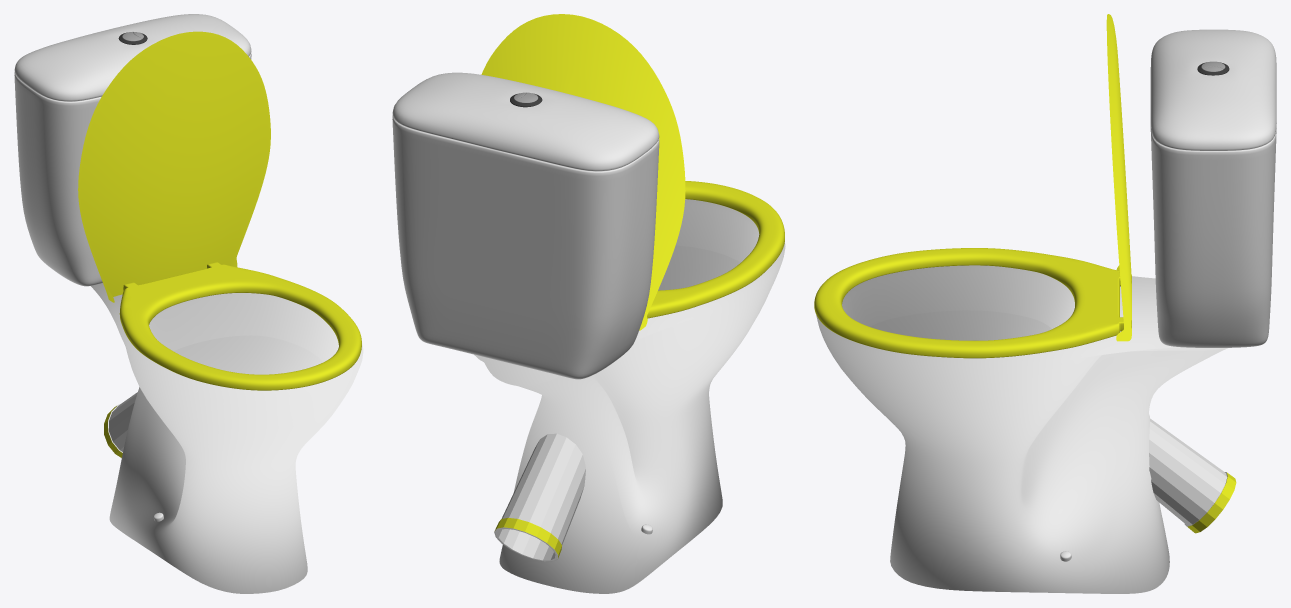
Rendered from turbowc.fbx.
The picture shows the model from 3 angles, left to right: view 1: azimuth 30°, elevation 25°; view 2: azimuth 150°, elevation 25°; view 3: azimuth 270°, elevation 25°; orthographic projection. The views are drawn at different scales.
Parts seen in each view (by area): view 1: CERAMICS.001, PLASTIC_CAP, PLASTIC_SEAT, Cylinder; view 2: CERAMICS.001, PLASTIC_CAP, Cylinder, PLASTIC_SEAT; view 3: CERAMICS.001, PLASTIC_SEAT, Cylinder, PLASTIC_CAP.
Part boxes in pixels (<box>): CERAMICS.001: <box>14,14,363,593</box>; PLASTIC_CAP: <box>78,31,270,302</box>; PLASTIC_SEAT: <box>119,262,361,390</box>; Cylinder: <box>104,392,137,457</box>; CERAMICS.001: <box>392,72,785,593</box>; PLASTIC_CAP: <box>481,14,685,330</box>; Cylinder: <box>494,433,585,562</box>; PLASTIC_SEAT: <box>647,181,784,318</box>; CERAMICS.001: <box>816,29,1276,593</box>; PLASTIC_SEAT: <box>814,248,1131,358</box>; Cylinder: <box>1149,418,1236,533</box>; PLASTIC_CAP: <box>1106,14,1131,341</box>.
Size of the model in its own units: 1.2 by 2.66 by 2.07.
